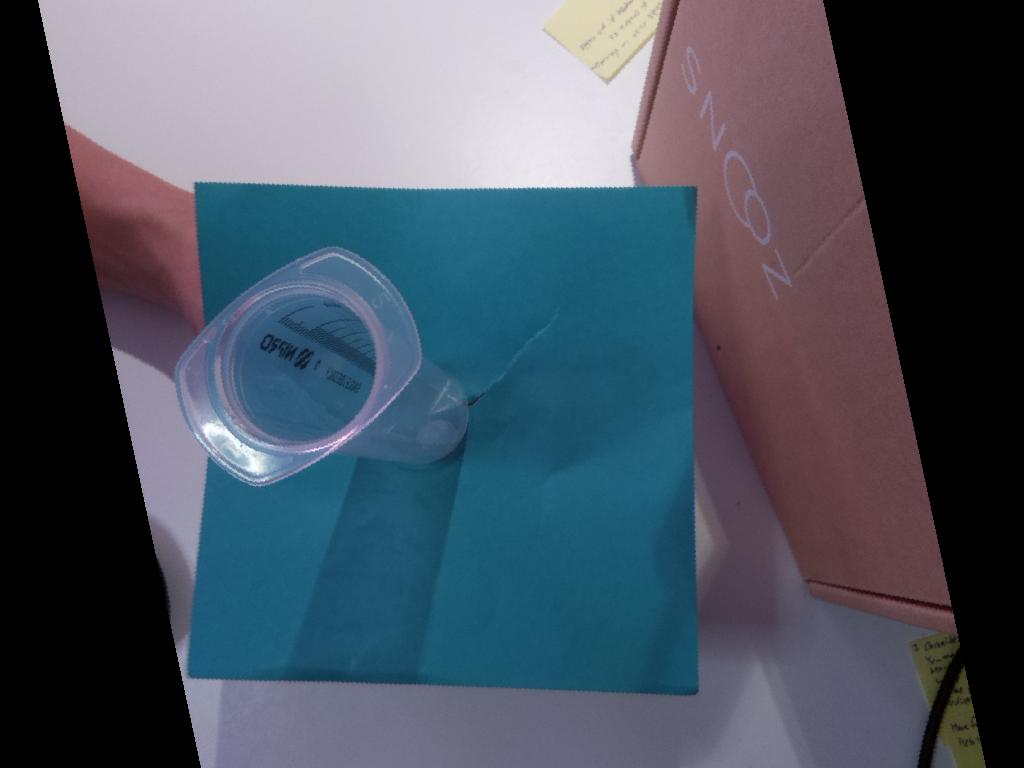clean: (172, 245, 425, 488)
